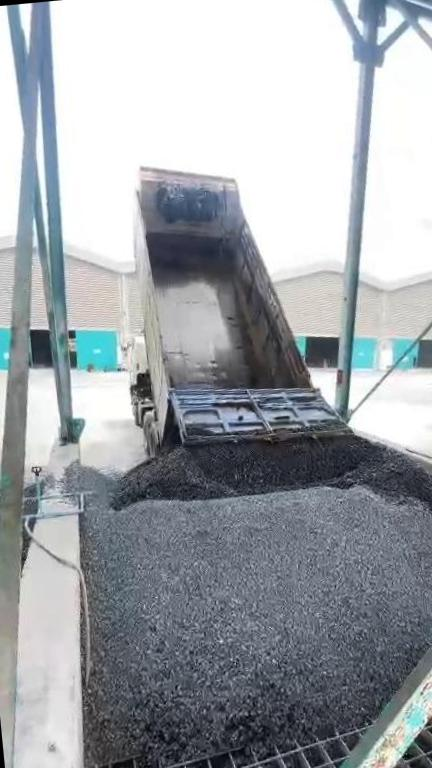gravel: (82, 460, 432, 763), (113, 436, 432, 543), (49, 460, 124, 504), (22, 484, 37, 528)
